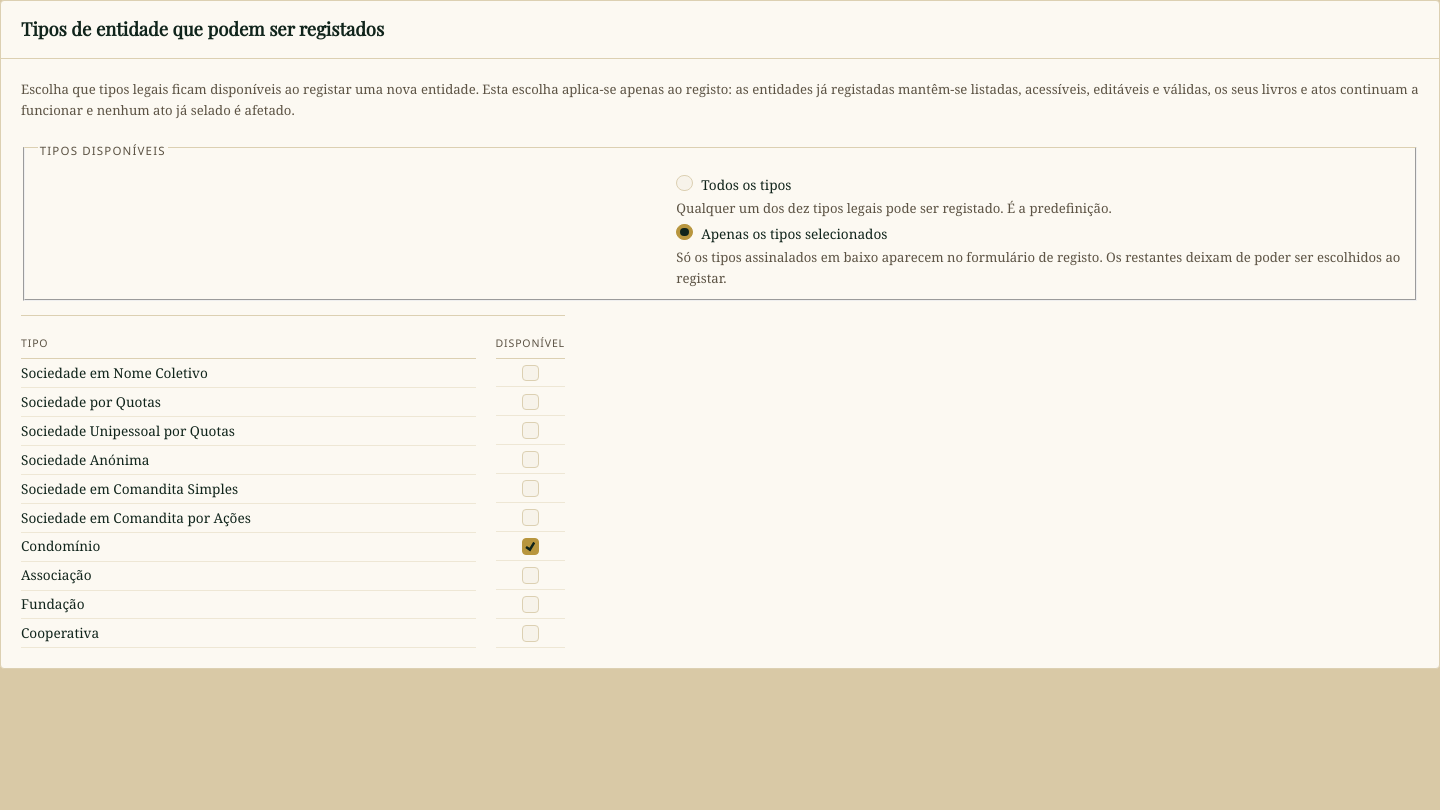
Test: EntityKindsSection — an empty selection is never submitted as a narrowing › clears the refusal once a real change lands
Click the checkbox labelled "Condomínio".
click(530, 547)  # box [522,538,539,555]
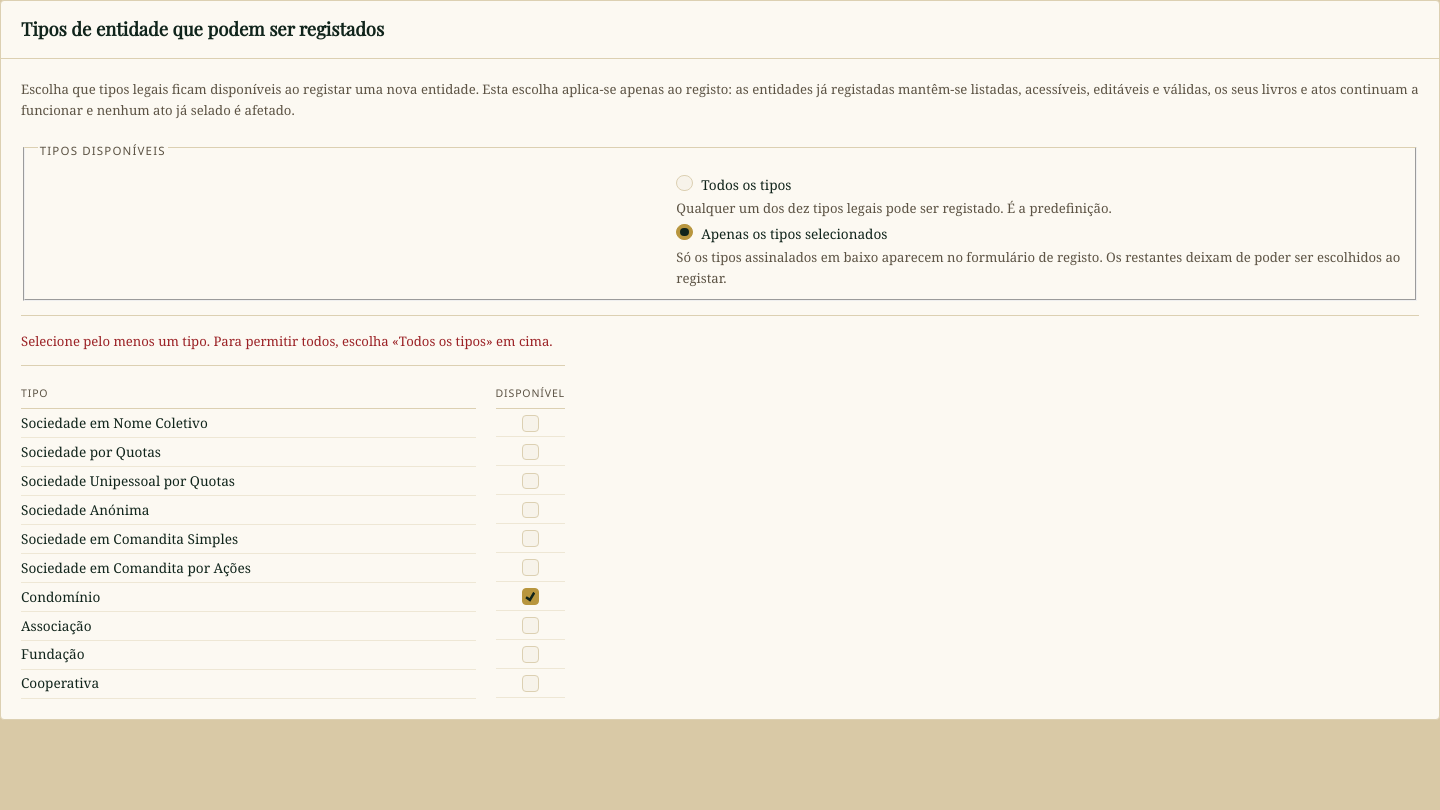
Check: the message is shown, box [21,315,1419,351]
Click the checkbox labelled "Associação".
click(530, 626)  # box [522,617,539,634]
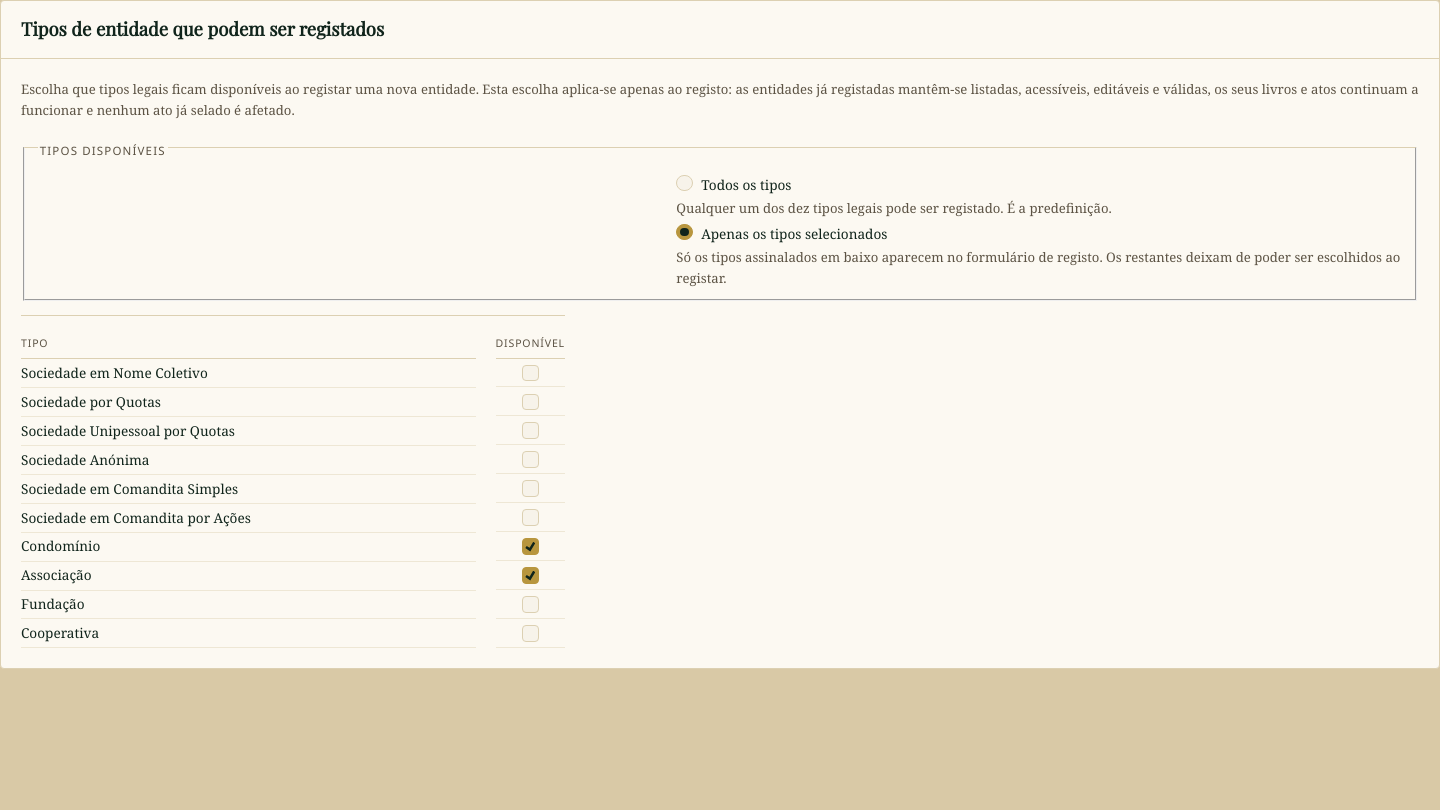
Check: the message is gone
